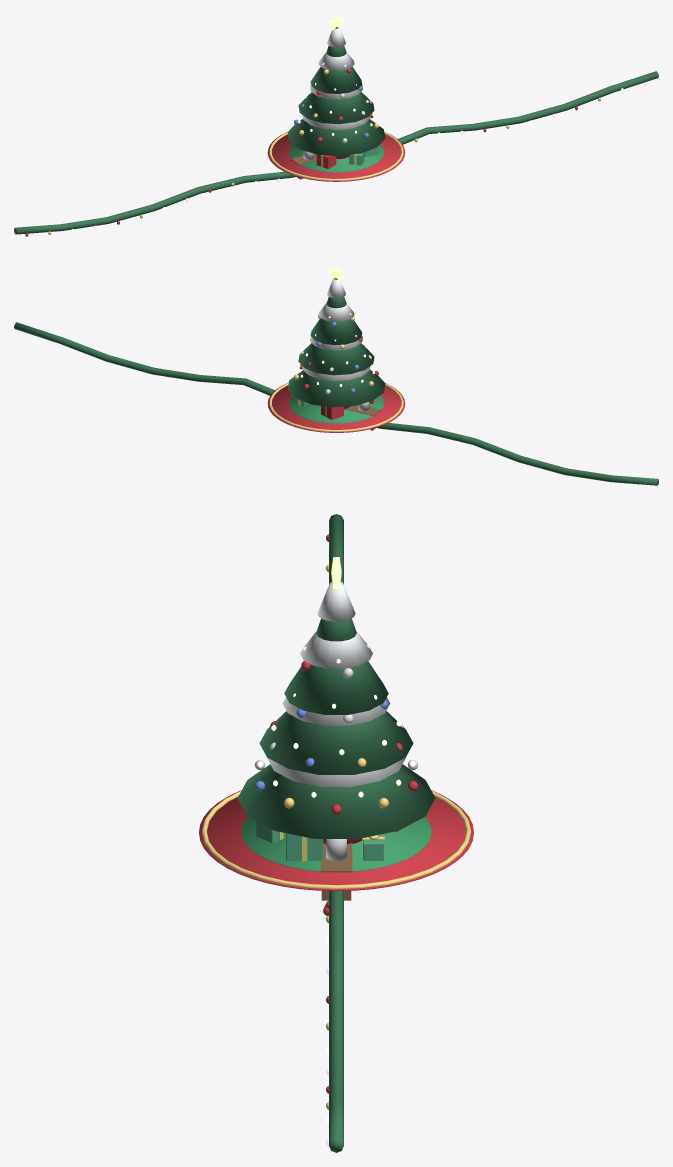
Rendered from interior.glb.
3 views of the same model, one above another, from view 1: azimuth 30°, elevation 25°; view 2: azimuth 150°, elevation 25°; view 3: azimuth 270°, elevation 25° (orthographic). The views are drawn at different scales.
Parts seen in each view (by area): view 1: ChristmasTree, BeamGarland, Rug, Presents; view 2: ChristmasTree, BeamGarland, Rug, Presents; view 3: ChristmasTree, Rug, BeamGarland, Presents, WallShelf.
Boxes of the visible parts, x1=… form: ChristmasTree: x1=287, y1=14, x2=385, y2=158; BeamGarland: x1=14, y1=71, x2=658, y2=236; Rug: x1=267, y1=131, x2=405, y2=181; Presents: x1=316, y1=146, x2=378, y2=168; ChristmasTree: x1=287, y1=265, x2=385, y2=409; BeamGarland: x1=14, y1=322, x2=658, y2=485; Rug: x1=267, y1=383, x2=405, y2=432; Presents: x1=294, y1=398, x2=374, y2=419; ChristmasTree: x1=237, y1=557, x2=435, y2=843; Rug: x1=199, y1=790, x2=473, y2=891; BeamGarland: x1=326, y1=514, x2=343, y2=1152; Presents: x1=256, y1=821, x2=398, y2=861; WallShelf: x1=320, y1=839, x2=352, y2=900.
Bounding box in the file's own units: 14.02 × 3.33 × 2.6.
